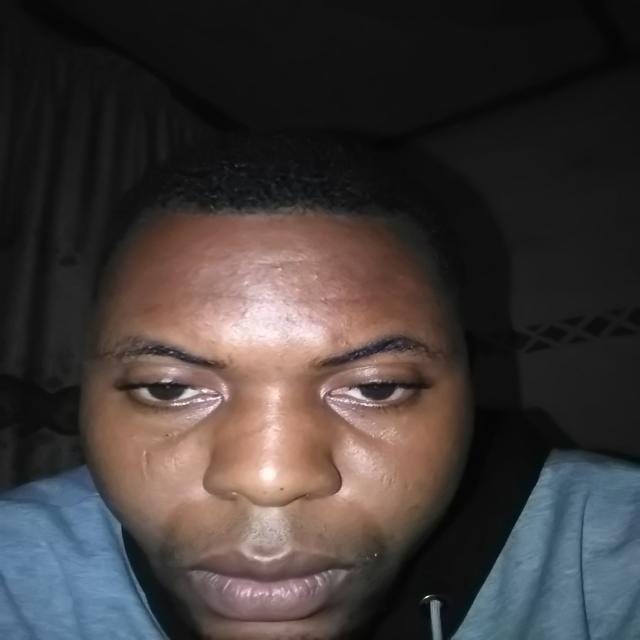Acne: (131, 450, 165, 483), (259, 264, 293, 282), (228, 309, 254, 331), (304, 264, 332, 282), (168, 430, 188, 446)
